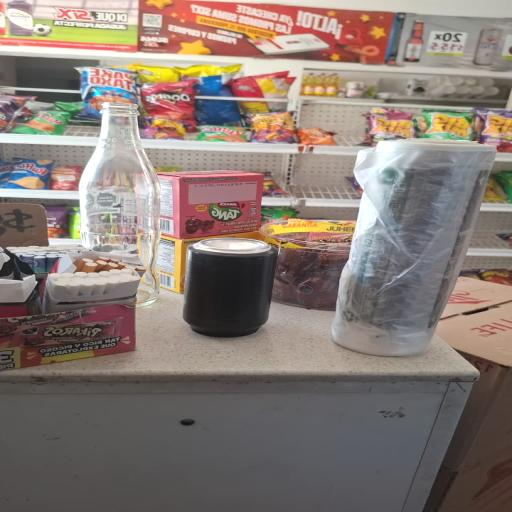LATA: (166, 232, 298, 344)
